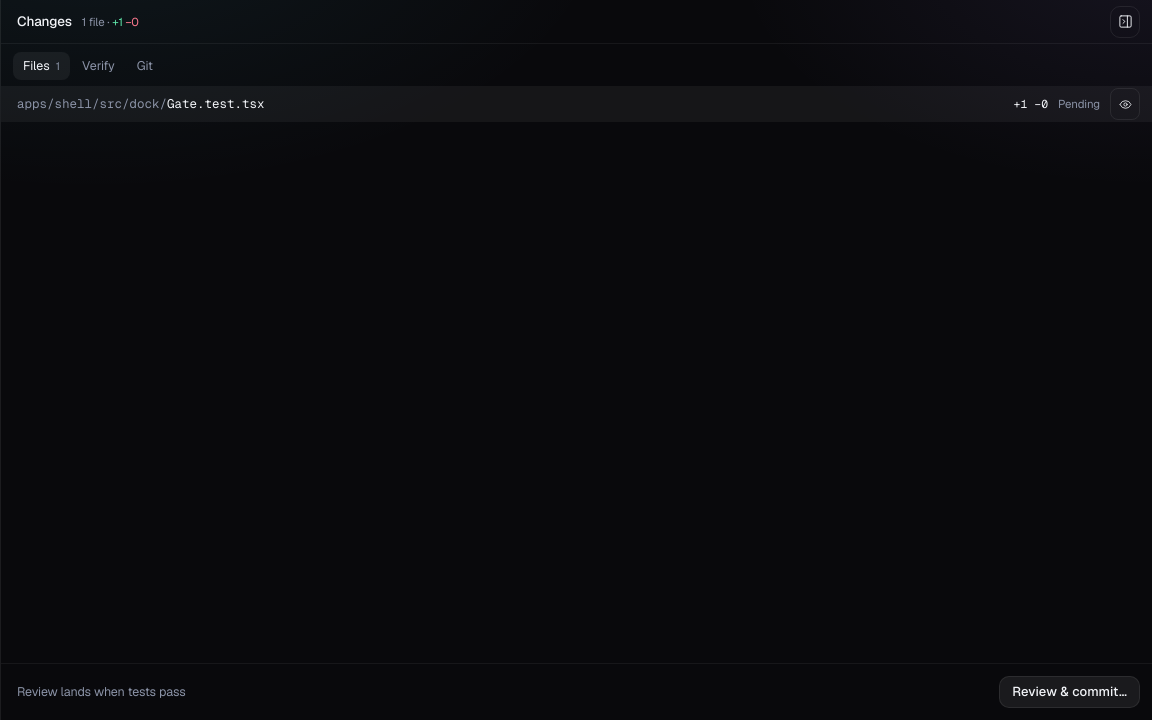
Test: ChangesDock — Files tab rows › a write_file whole-file rewrite with one insert shows git-scale ± and hunks, not +N −N
Click the button named "View diff". click: coordinates (1125, 104)
box: [1110,88,1140,120]
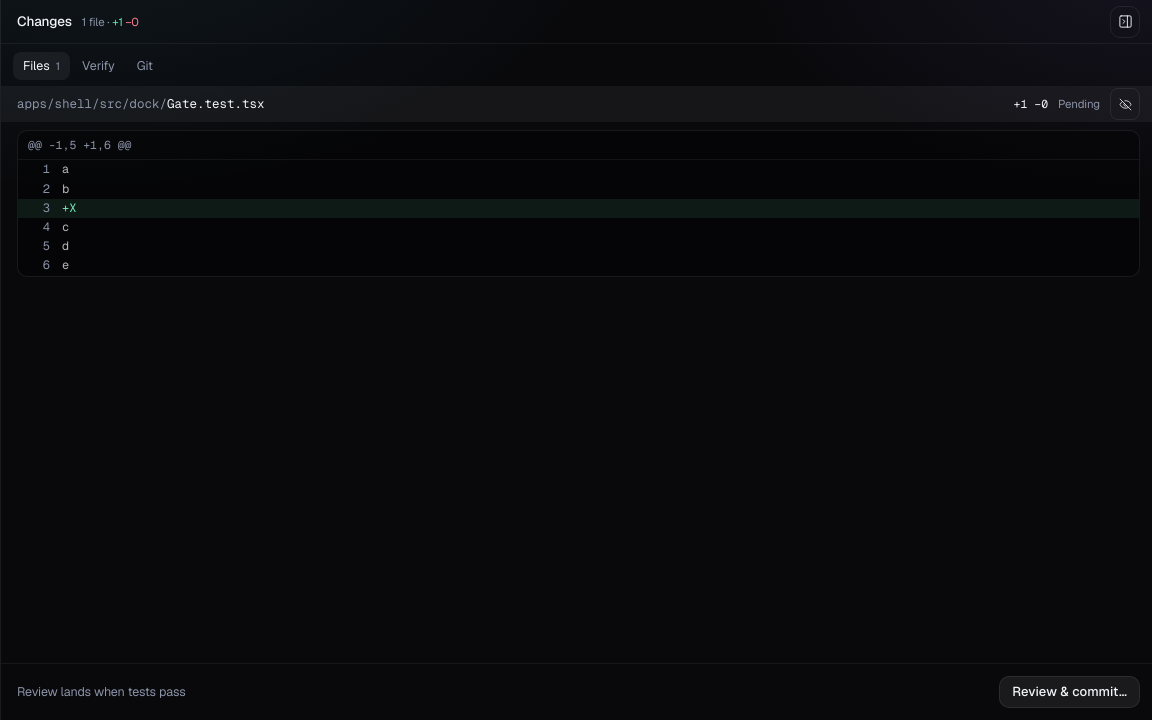
Result: the text "+X" is shown at [62,199,76,218]
